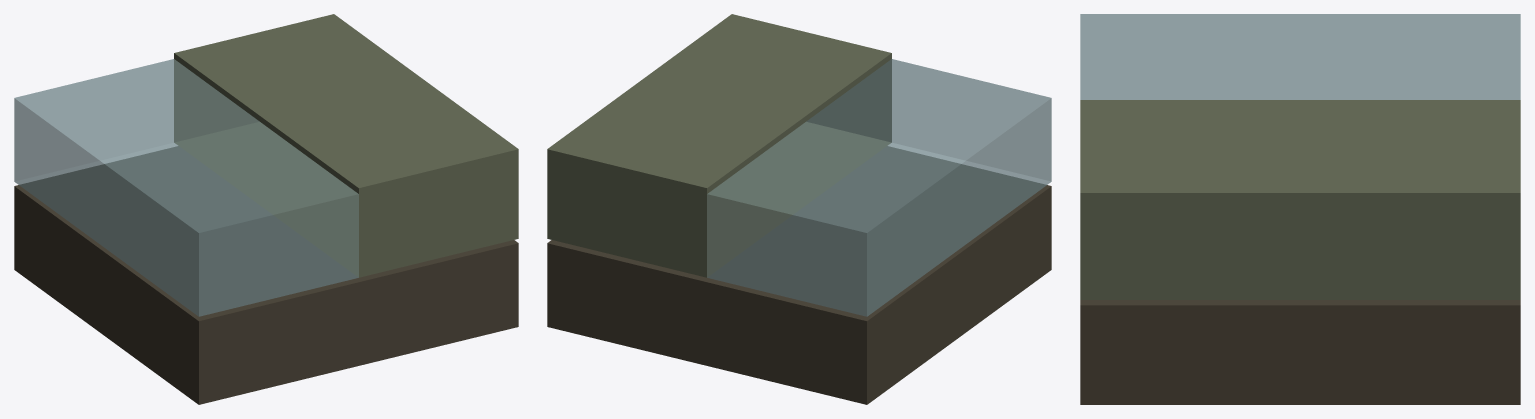
The model's file is Half water hafl grass, bottom dirt.fbx.
3 views of the same model, side by side, from view 1: azimuth 30°, elevation 25°; view 2: azimuth 150°, elevation 25°; view 3: azimuth 270°, elevation 25° (orthographic). The views are drawn at different scales.
Visible parts, largest first — view 1: polySurface1176; view 2: polySurface1176; view 3: polySurface1176.
Part boxes in pixels (x1,y1,x2,y2): polySurface1176: [14, 14, 518, 404]; polySurface1176: [547, 14, 1051, 404]; polySurface1176: [1080, 14, 1520, 404].
Size of the model in its own units: 56.97 by 30.24 by 56.97.
